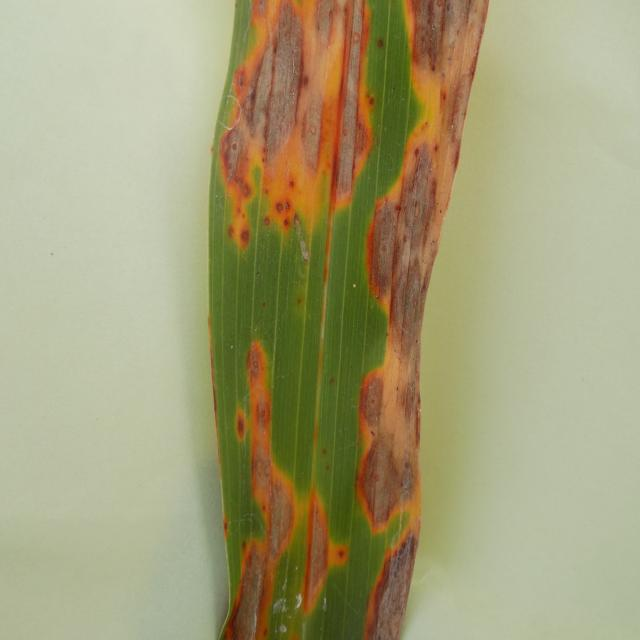millet_rust: (210, 0, 497, 638)
